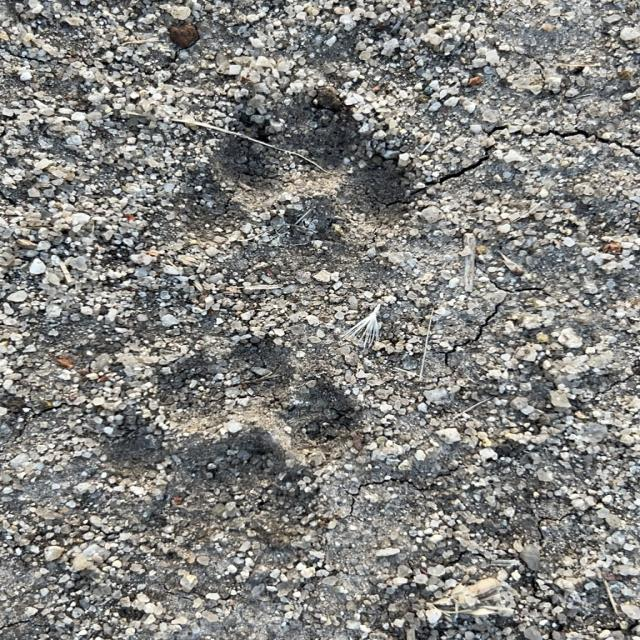felid: (110, 342, 352, 530), (185, 110, 410, 294)
